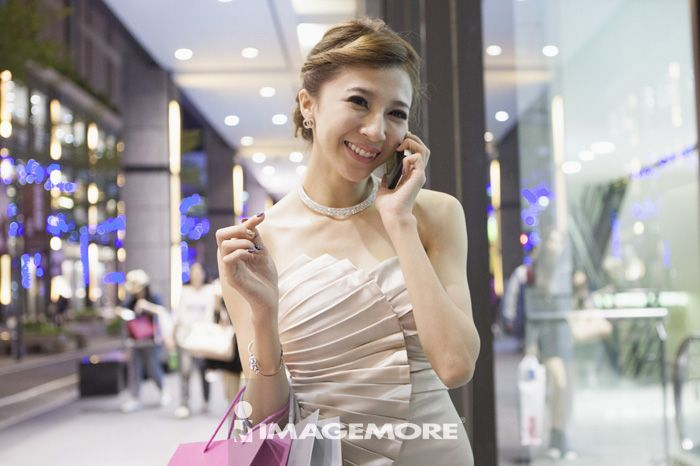talk: (324, 84, 431, 238)
